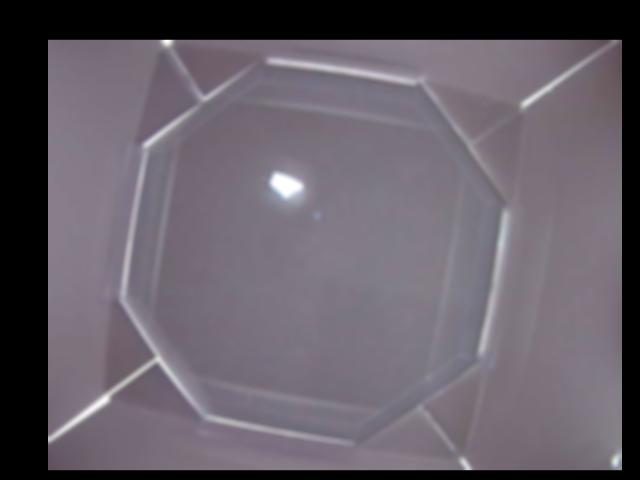China: (269, 171, 302, 200)
